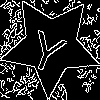Y: (25, 20, 72, 76)
